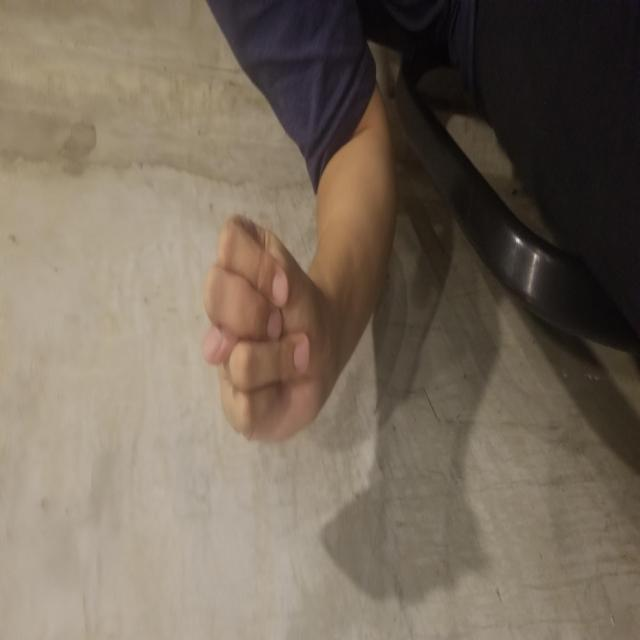N: (194, 201, 426, 322)
